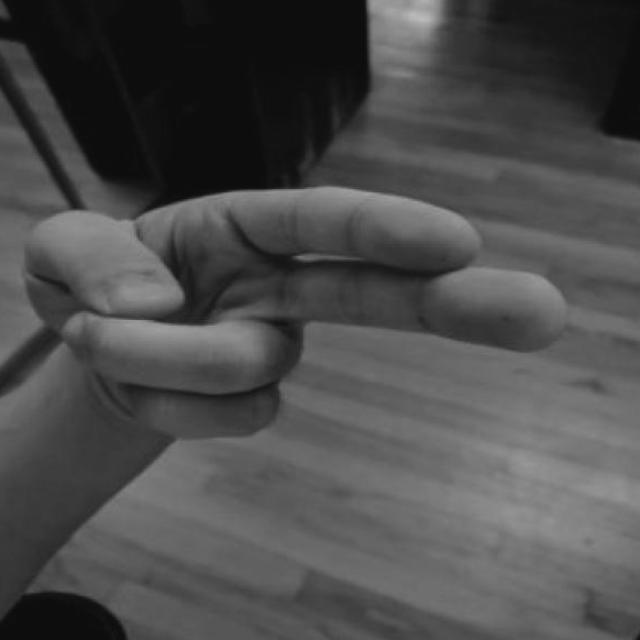H: (8, 143, 577, 451)
